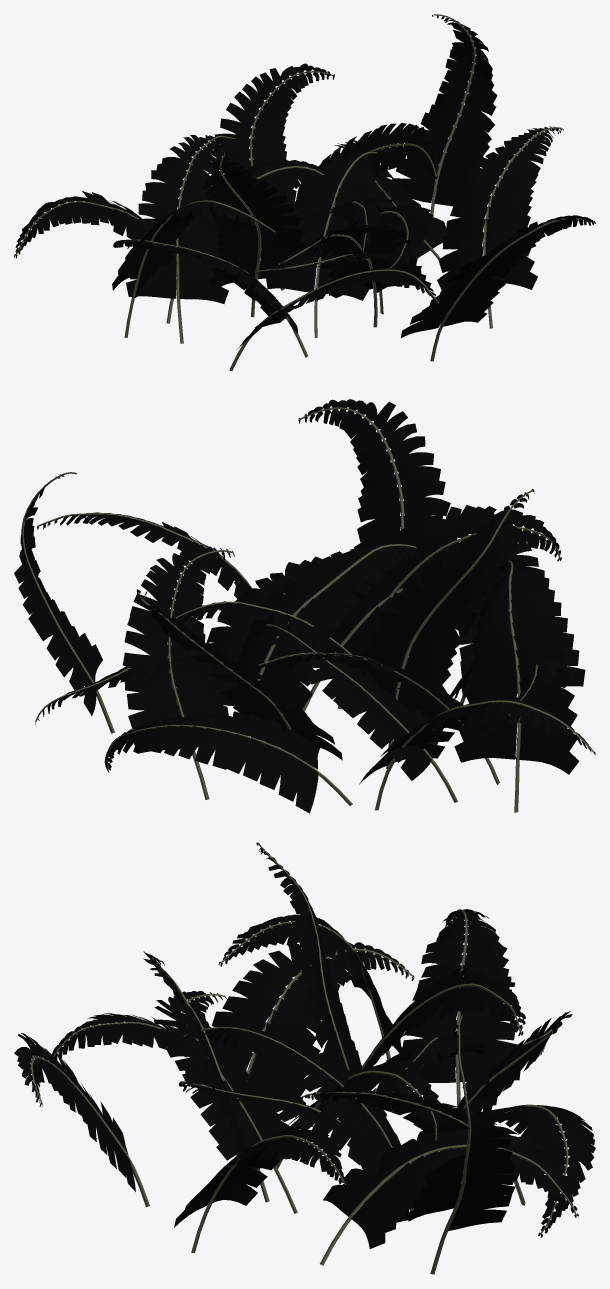
File: Vegetation_Fern_2.fbx
3 renders of one model, top to bottom at view 1: azimuth 30°, elevation 25°; view 2: azimuth 150°, elevation 25°; view 3: azimuth 270°, elevation 25°, orthographic. The views are drawn at different scales.
Visible parts, largest first — view 1: Vegetation_Fern2; view 2: Vegetation_Fern2; view 3: Vegetation_Fern2.
Part boxes in pixels (x1,y1,x2,y2): Vegetation_Fern2: (14, 14, 595, 370); Vegetation_Fern2: (14, 399, 595, 813); Vegetation_Fern2: (14, 842, 595, 1274).
Size of the model in its own units: 217 by 90.73 by 177.
